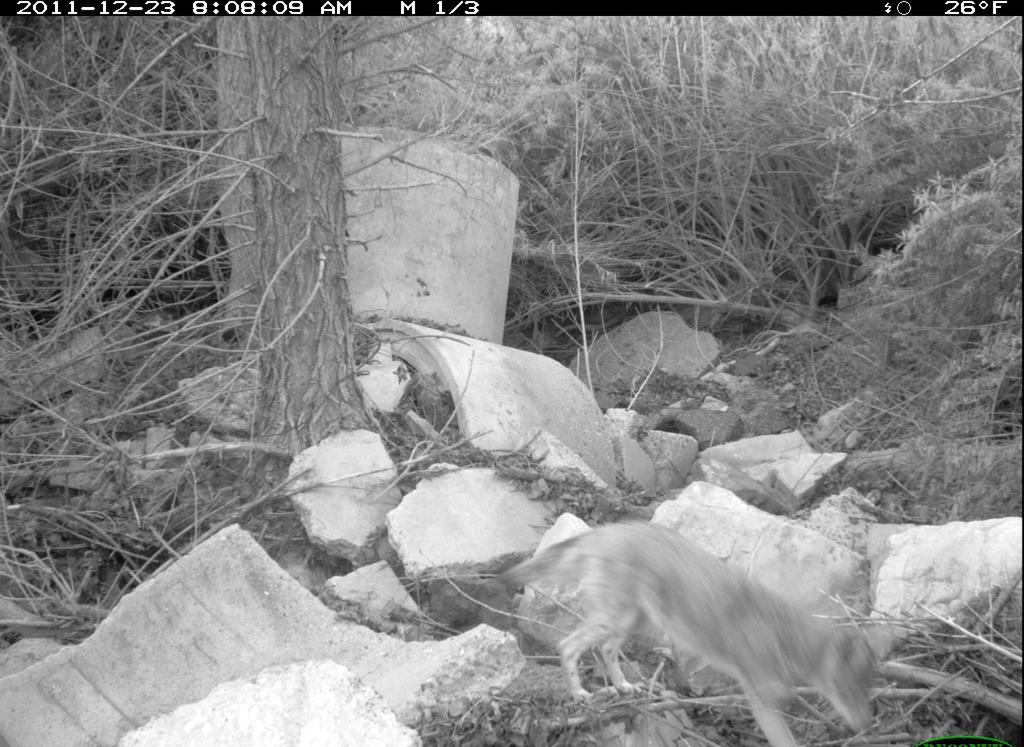coyote: (478, 510, 914, 744)
